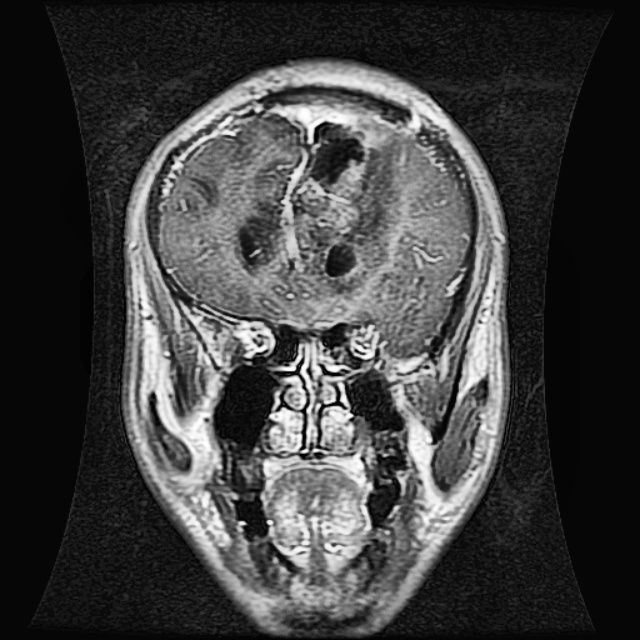Meningioma: (290, 117, 382, 209)
